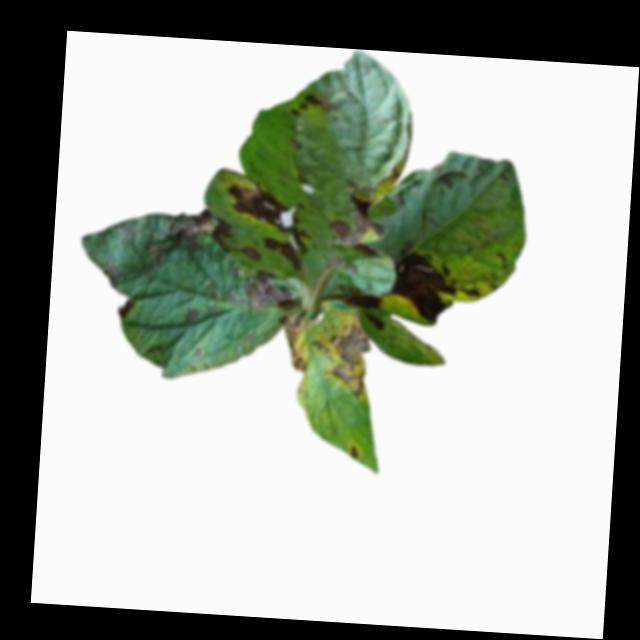Early_blight: (221, 179, 320, 270), (144, 204, 235, 270), (310, 308, 371, 398), (392, 249, 459, 323), (326, 191, 388, 259), (241, 266, 296, 312), (276, 313, 307, 374), (346, 290, 386, 330), (290, 89, 336, 123), (101, 253, 126, 290), (236, 243, 261, 262), (116, 295, 132, 320), (348, 443, 363, 458)
